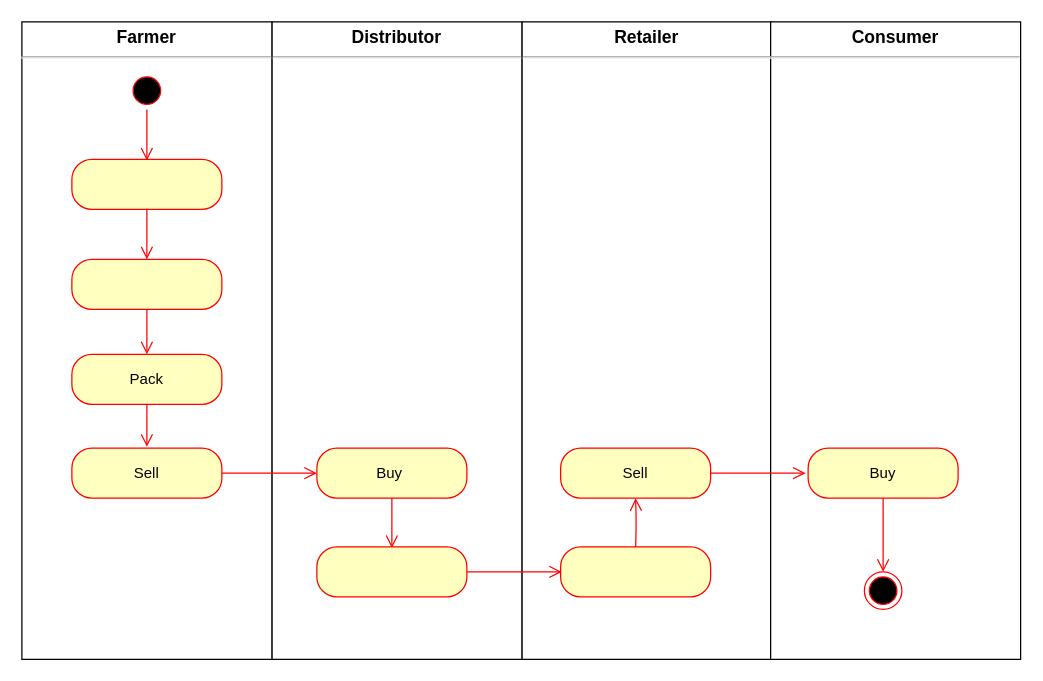
This 1043x681 diagram has some shape labels left out. The shapes that lost their labels are listed below. From the top down, each one's centre as x and y in pixels, then its label:
At pixel 146 183: "Harvest".
At pixel 146 283: "Process".
At pixel 391 571: "Ship".
At pixel 635 571: "Receive".
